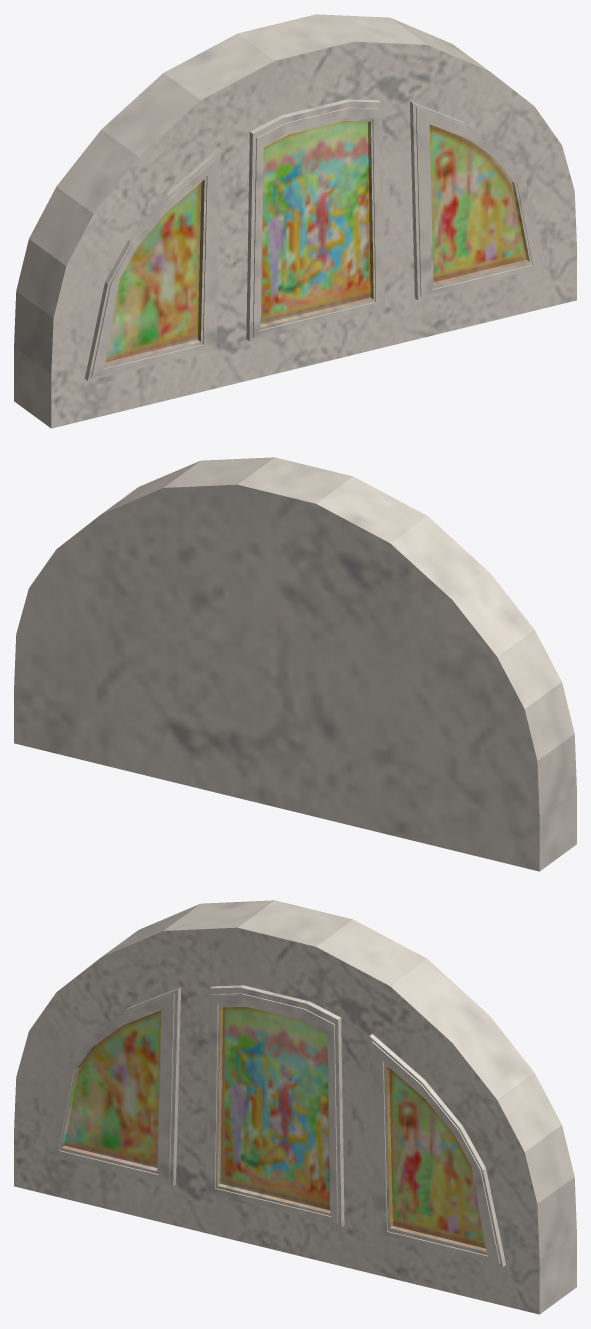
File: ceiling_front_with_texture.fbx
3 renders of one model, top to bottom at view 1: azimuth 30°, elevation 25°; view 2: azimuth 150°, elevation 25°; view 3: azimuth 330°, elevation 25°, orthographic.
Visible parts, largest first — view 1: ceiling_front; view 2: ceiling_front; view 3: ceiling_front.
Part boxes in pixels (bbox=[...]): ceiling_front: bbox=[14, 14, 576, 428]; ceiling_front: bbox=[14, 457, 576, 871]; ceiling_front: bbox=[14, 900, 576, 1314].
Bounding box in the file's own units: 50.99 × 29.04 × 6.91.
1 material, 1 textured.
